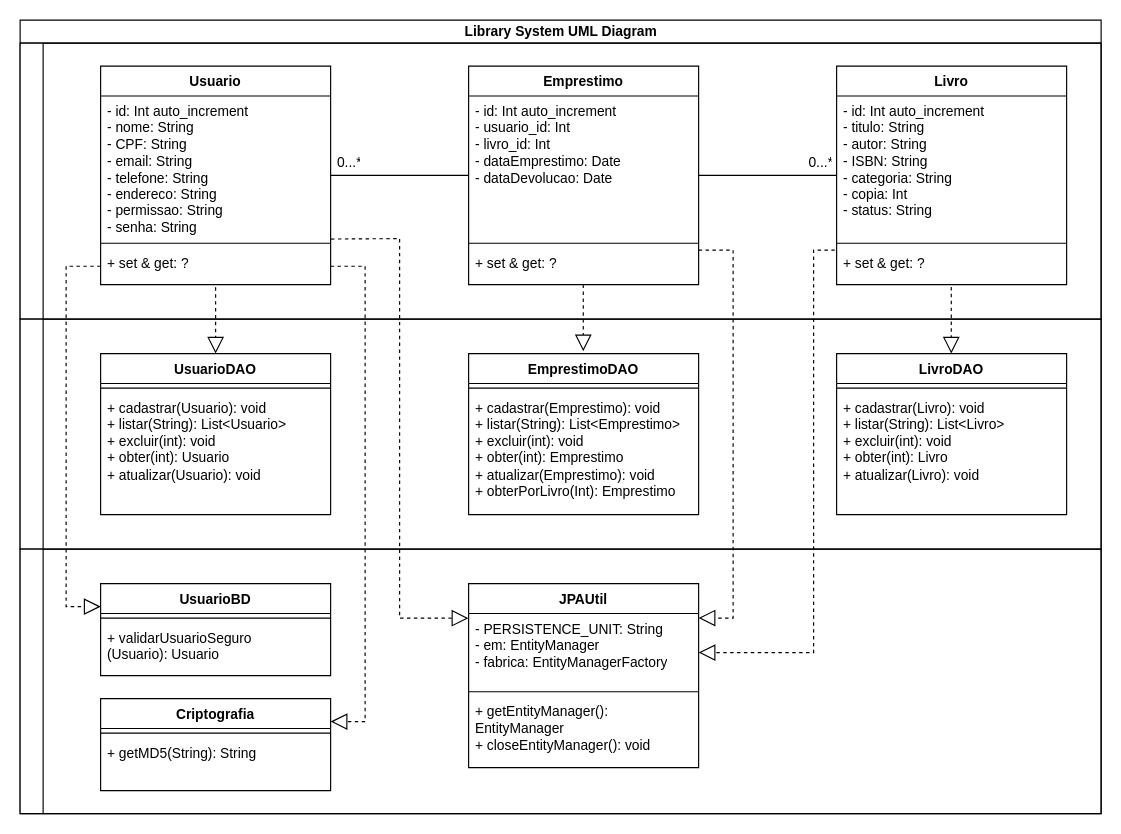
This 1121x834 diagram has some shape labels left out. The box of each missing label's shape, as (x1, y1, x2, y2) in pixels:
dao: (19, 318, 1101, 549)
model: (19, 42, 1101, 319)
util: (19, 548, 1101, 814)
